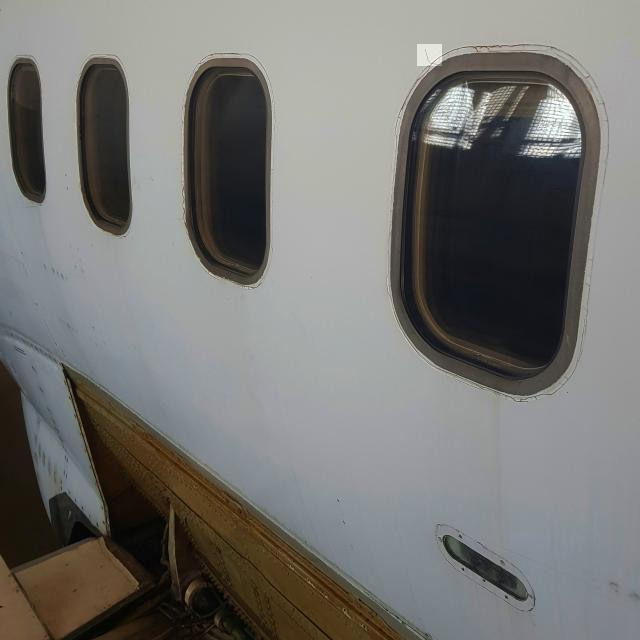crack: (418, 45, 443, 68)
